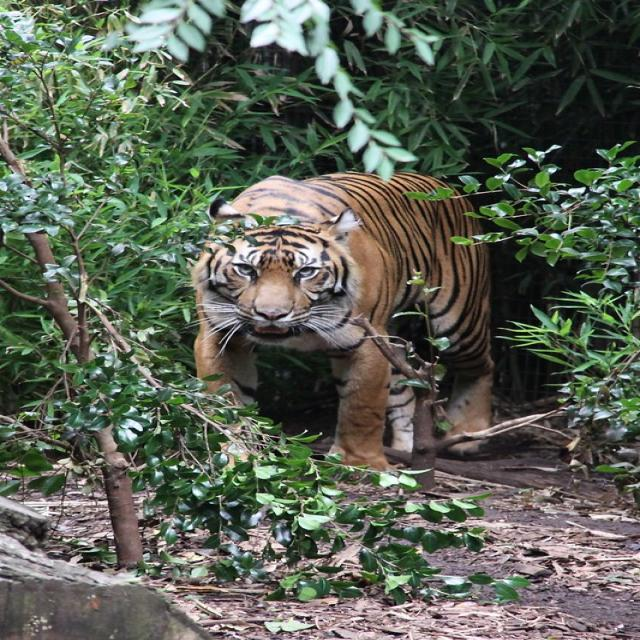Tiger: (173, 169, 499, 478)
